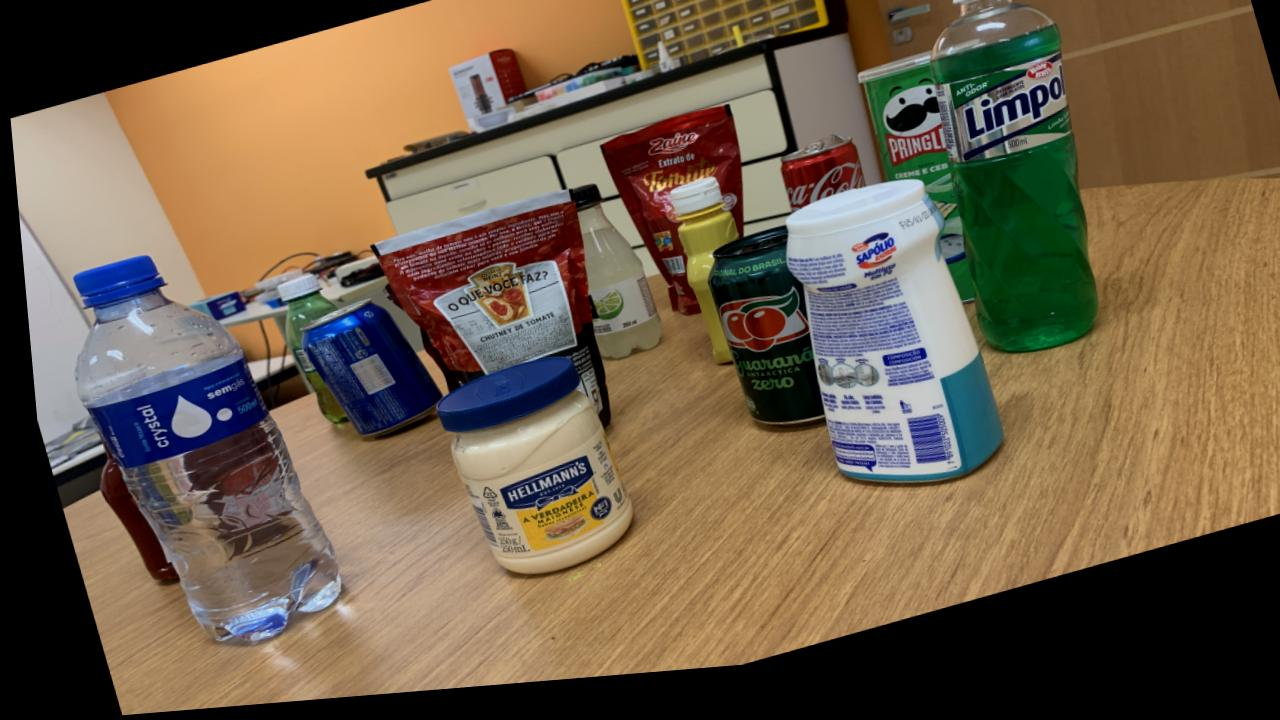Cleaner-Cleanup_Items: (779, 194, 993, 497)
Coke-Drinks: (776, 148, 861, 224)
Detergent-Cleanup_Items: (927, 0, 1091, 368)
Guarana-Drinks: (272, 278, 339, 428)
Guarana_Can-Drinks: (701, 239, 816, 437)
Ketchup-Pantry_Items: (90, 452, 167, 583)
Mayonnaise-Pantry_Items: (427, 365, 622, 582)
Mustard-Pantry_Items: (665, 188, 734, 376)
Pringles-Snacks: (855, 67, 968, 318)
Soda-Drinks: (565, 193, 655, 369)
Tomato_Sauce-Pantry_Items: (367, 198, 602, 434), (596, 118, 739, 326)
Tonic-Drinks: (294, 307, 434, 442)
Water_Bottle-Drinks: (67, 258, 330, 645)
